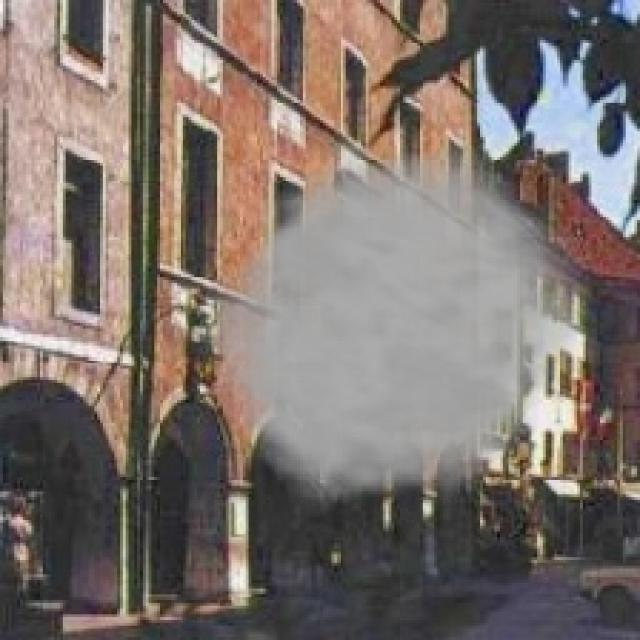smoke: (191, 140, 603, 520)
